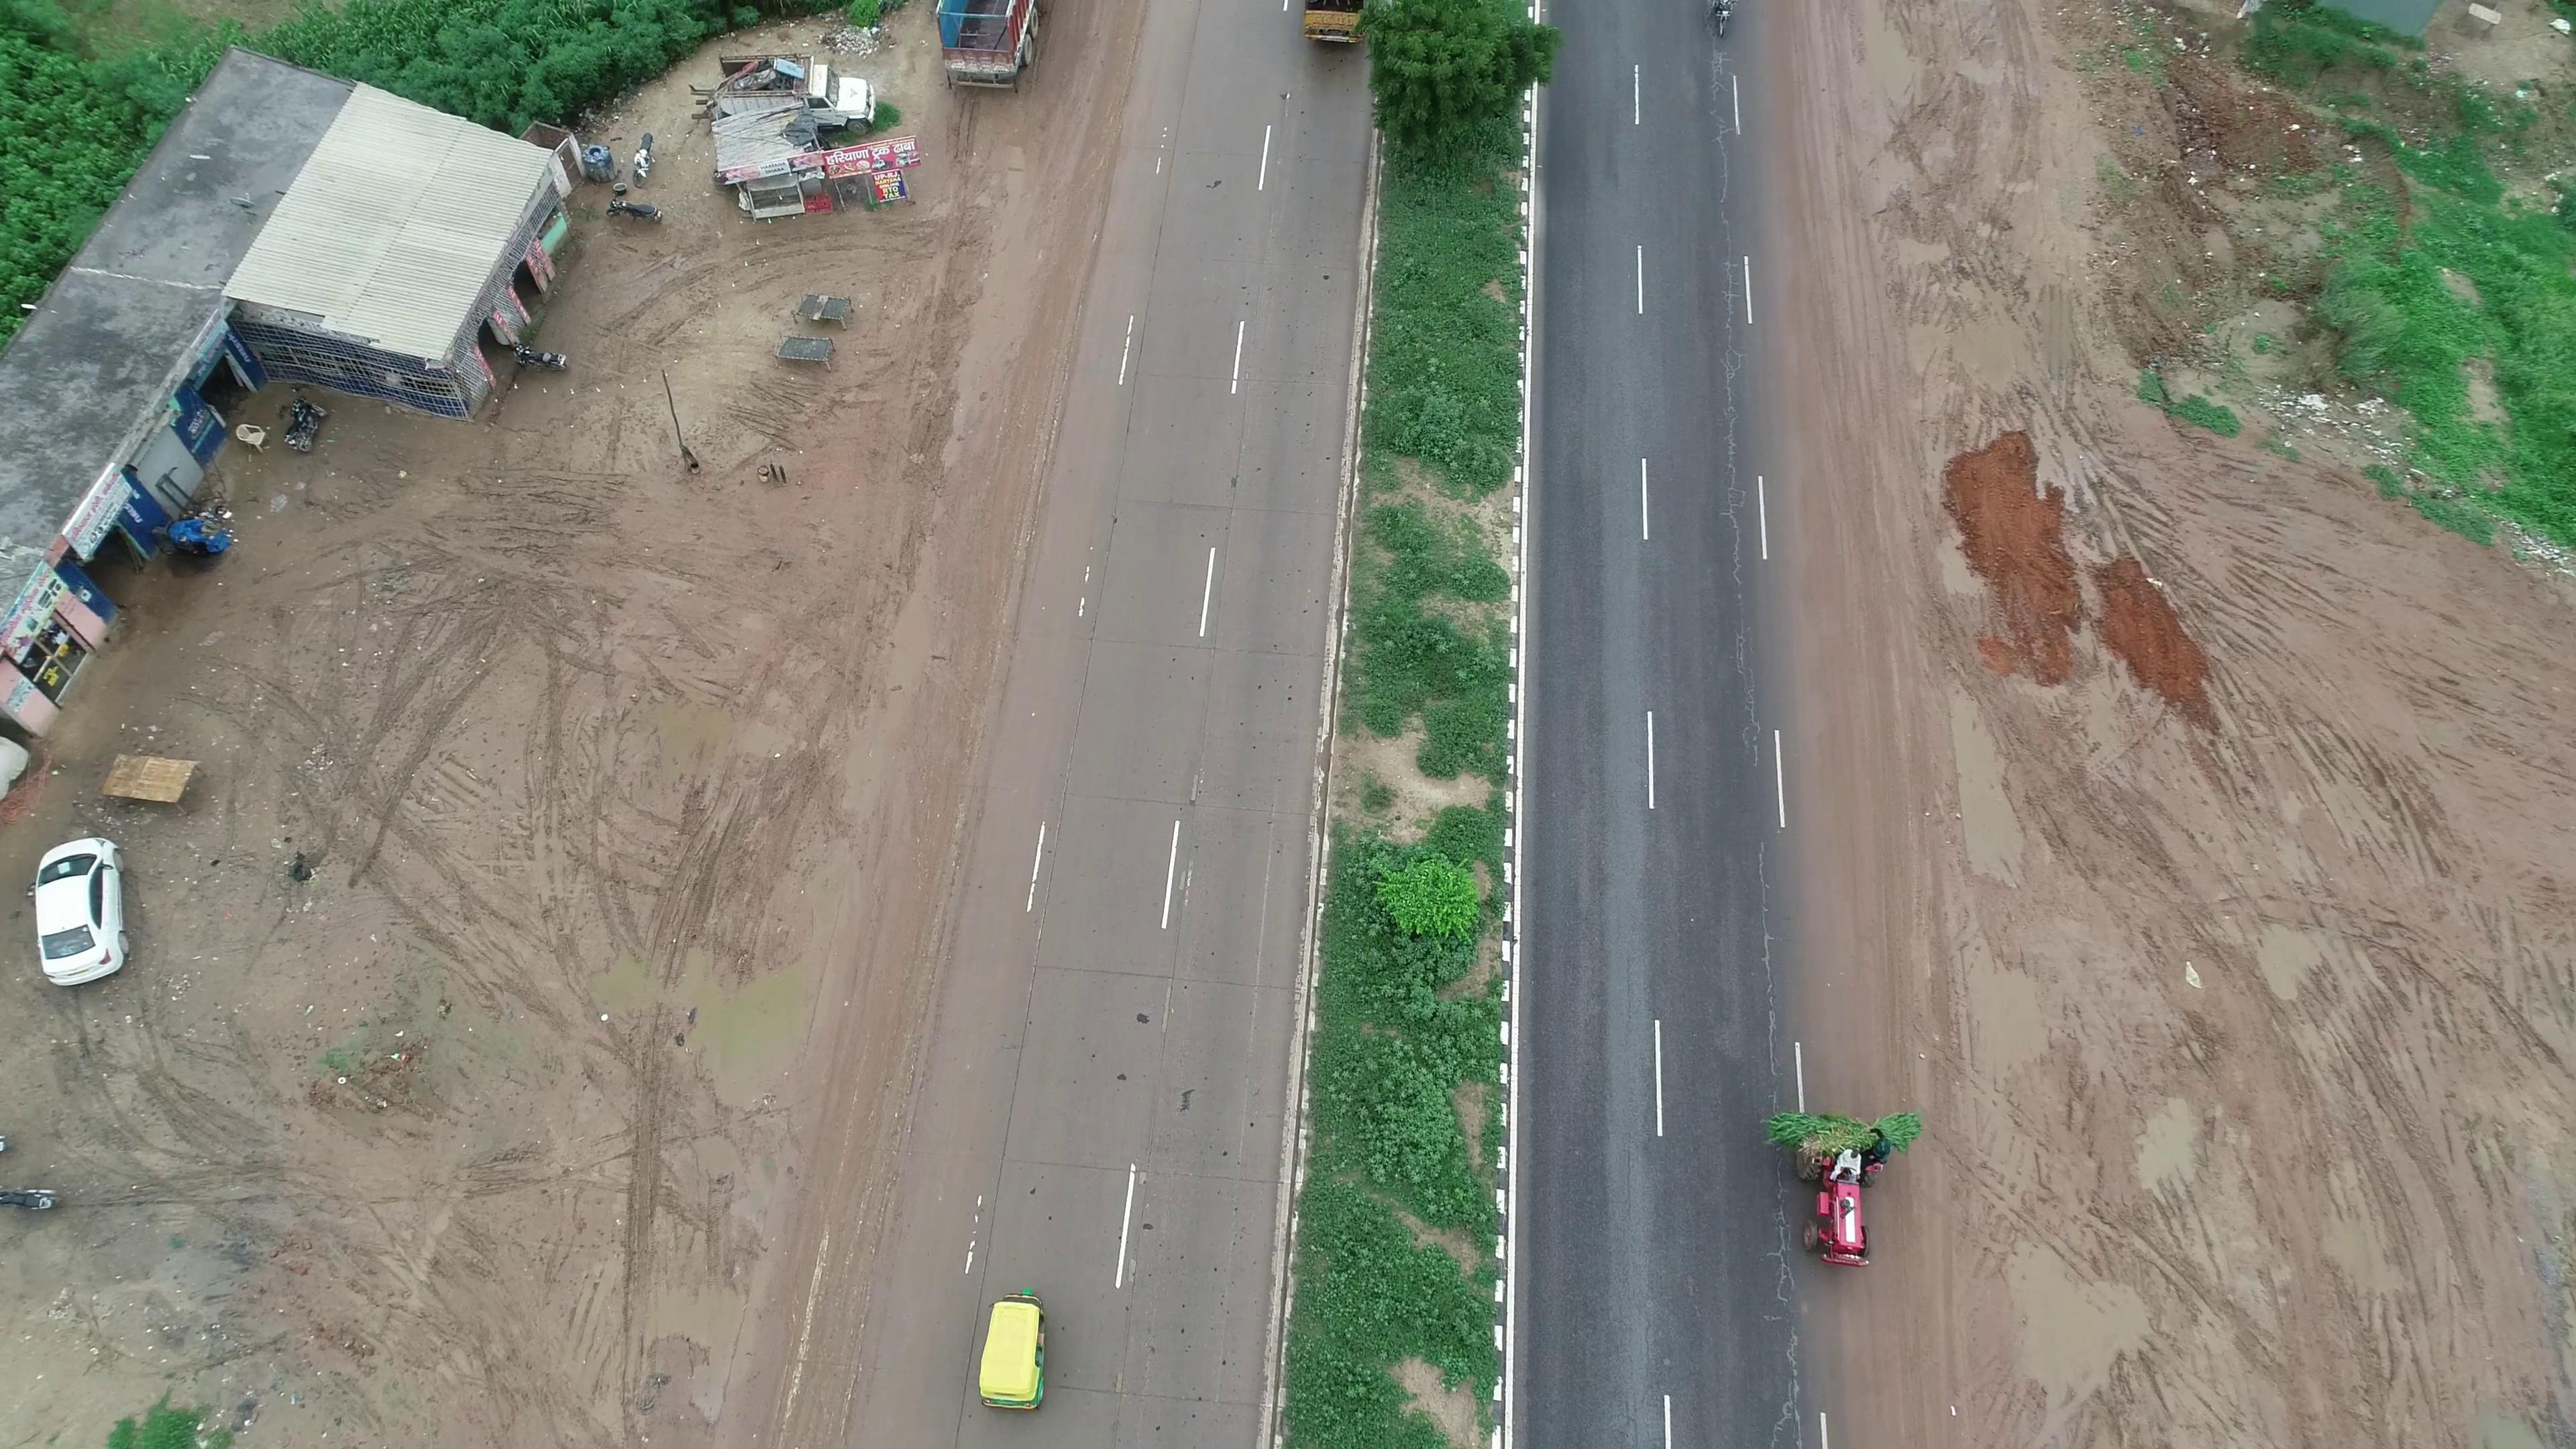Muddy_road: (1787, 364, 1967, 1108), (1773, 12, 1943, 352)
